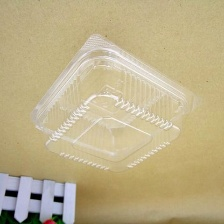plastic_box: (20, 25, 206, 182)
